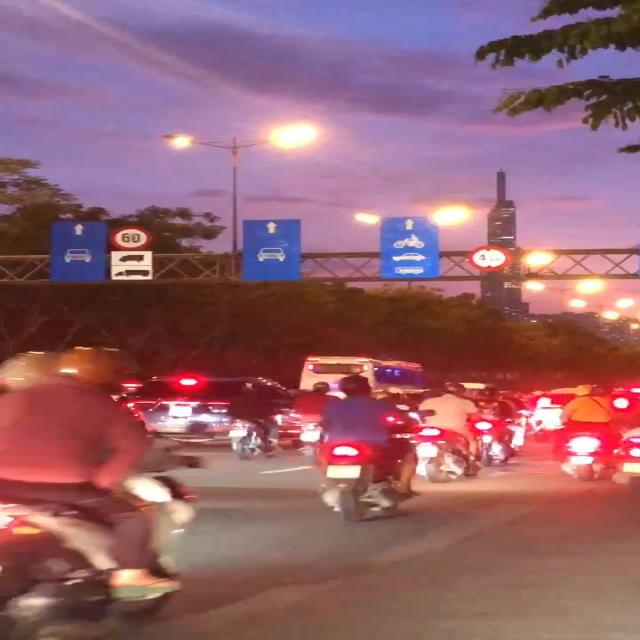Bien bao han che chieu cao: (466, 244, 517, 274)
Bien bao toc do toi da cho phep: (108, 224, 158, 252)
